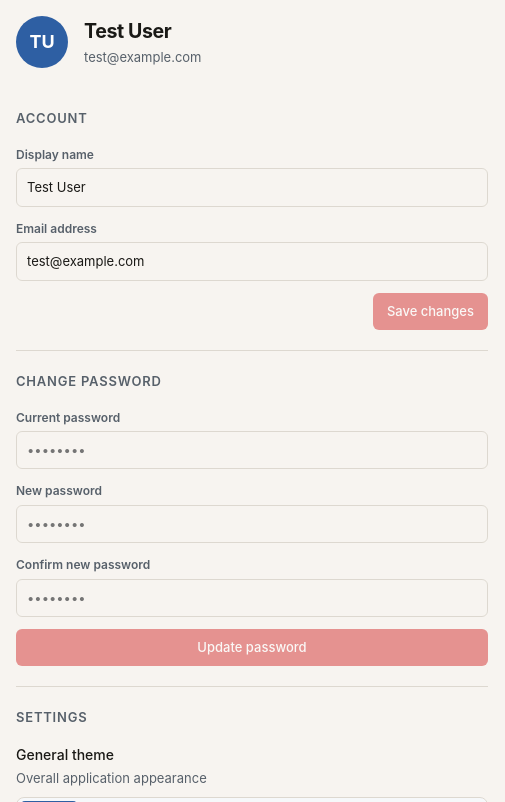
Scenario: AccountPage — change password › shows server error message on failure
This screenshot has width=505, height=802.
Type "wrongpass" into the password field labelled "Current password". click: (252, 450)
box: [16,431,488,470]
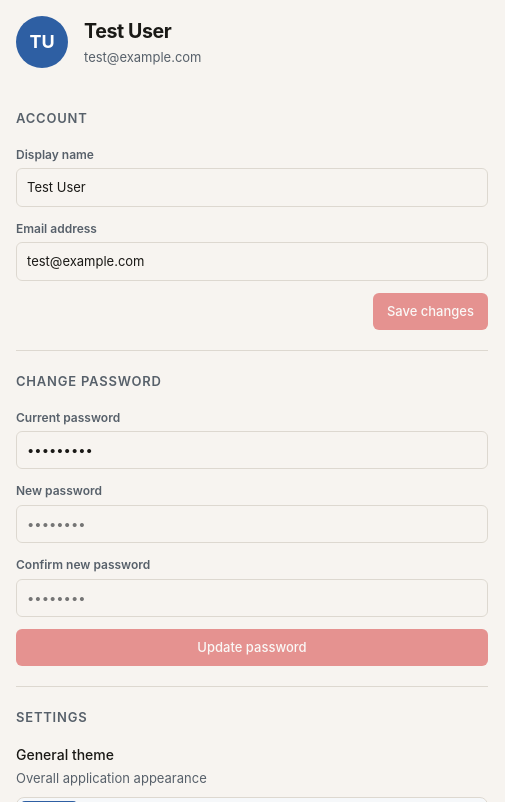
Type "newpass99" into the password field labelled "New password". click: (252, 524)
box: [16,505,488,544]
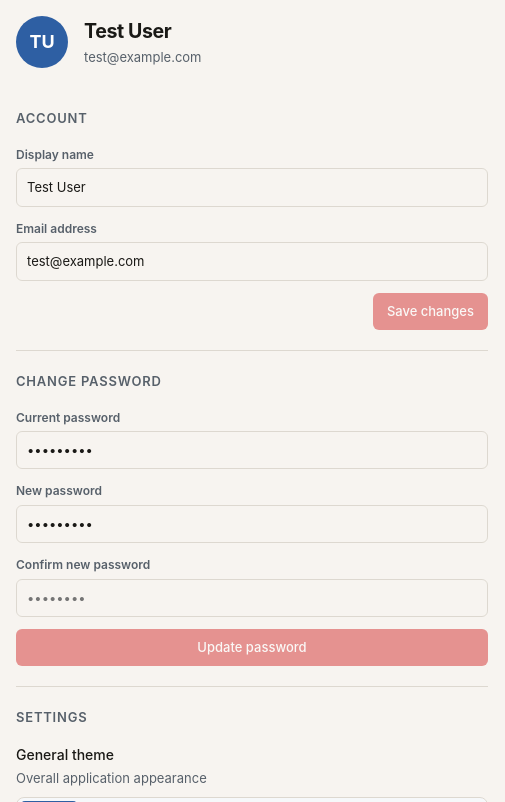
Type "newpass99" into the password field labelled "Confirm new password". click: (252, 598)
box: [16,579,488,618]
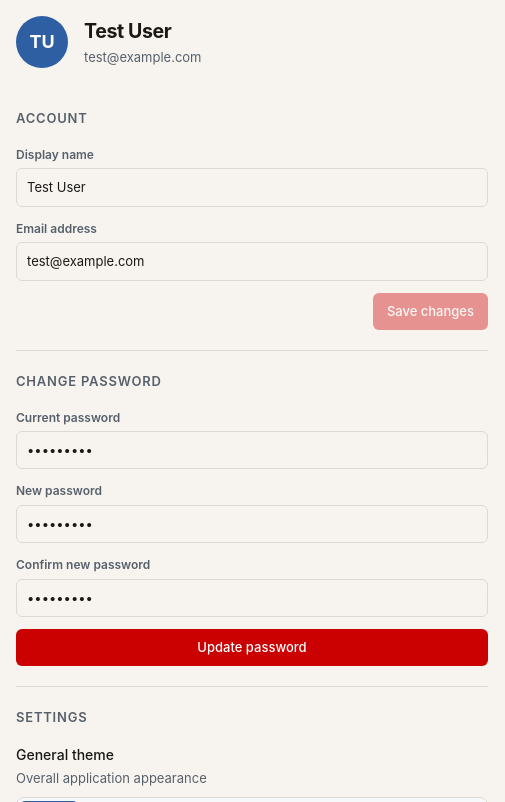
Click the button "Update password". click: (252, 648)
box: [16,630,488,666]
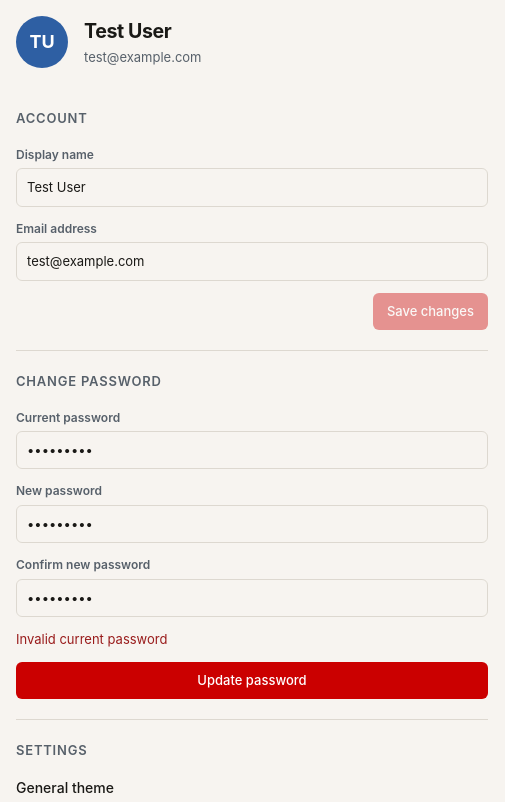
Now the text "Invalid current password" is shown, box [16,632,168,648]
